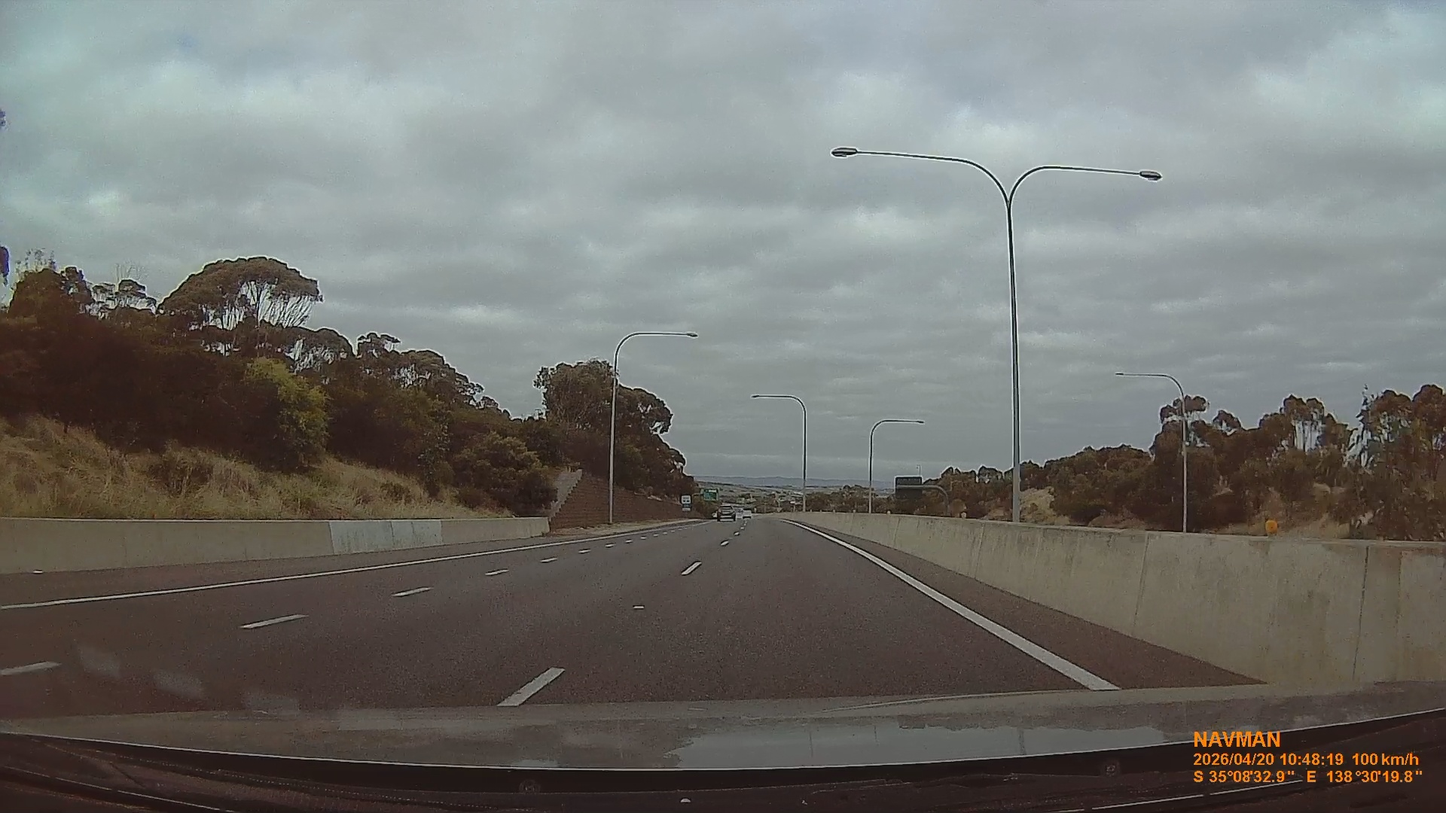road barriers: (789, 514, 1446, 685), (1, 515, 548, 574)
